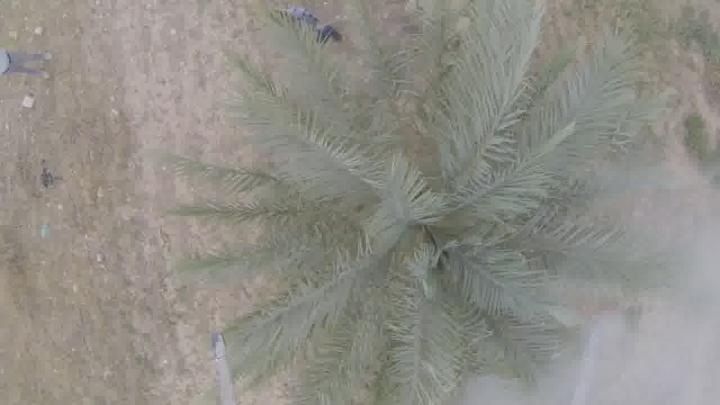Date-Palm-Crown: (281, 130, 573, 359)
